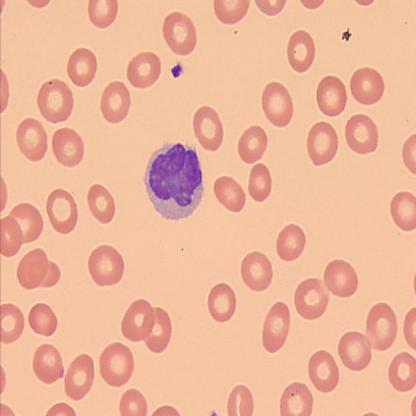Monocyte: (141, 138, 207, 224)
